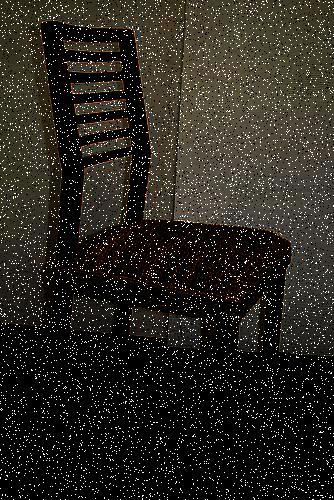Silla: (35, 20, 286, 481)
